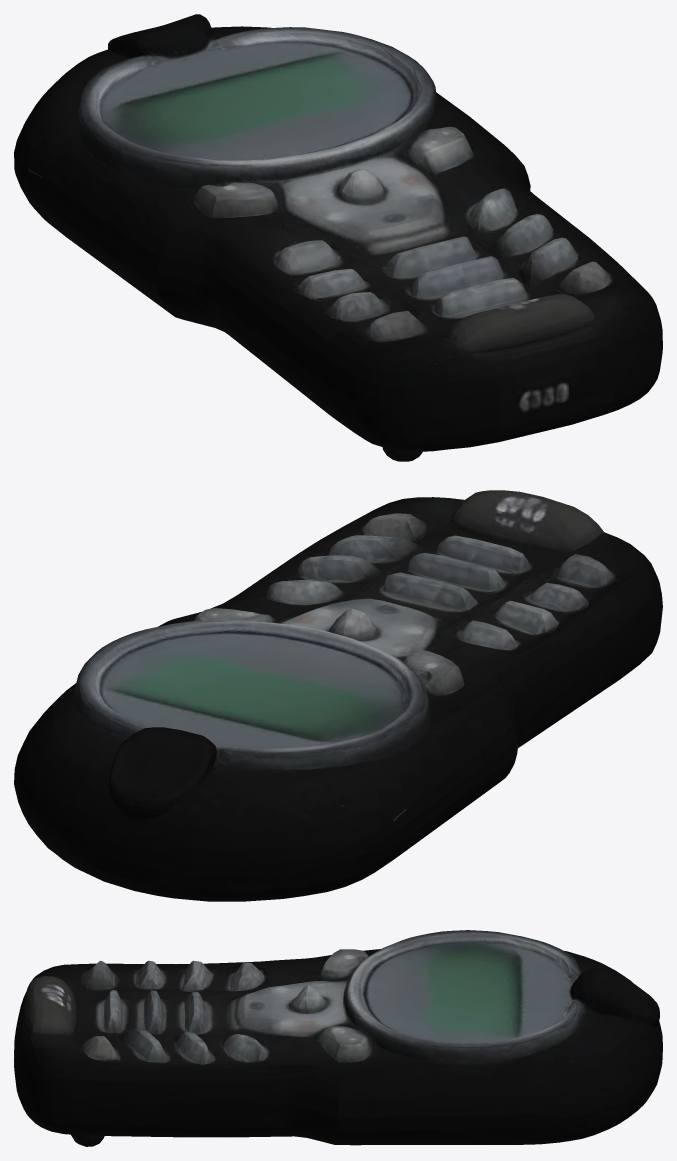
3 renders of one model, top to bottom at view 1: azimuth 30°, elevation 25°; view 2: azimuth 150°, elevation 25°; view 3: azimuth 270°, elevation 25°, orthographic. The views are drawn at different scales.
Visible parts, largest first — view 1: geometry_0; view 2: geometry_0; view 3: geometry_0.
Boxes of the visible parts, bbox=[...] form: geometry_0: bbox=[14, 14, 662, 461]; geometry_0: bbox=[14, 490, 662, 901]; geometry_0: bbox=[14, 930, 662, 1146].
Size of the model in its own units: 0.5195 by 0.2279 by 0.9984.
Materials: 1 (1 with a texture image).
